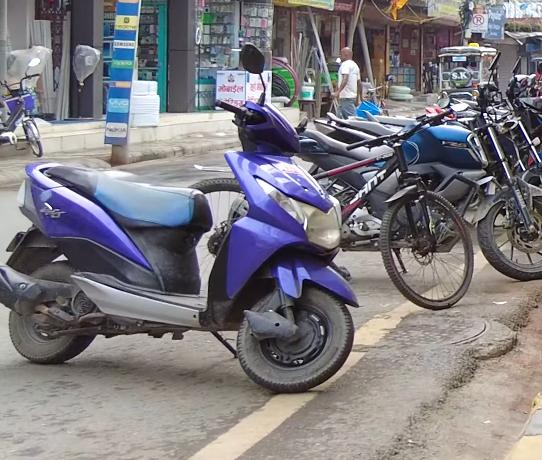scooter: (0, 86, 365, 394)
